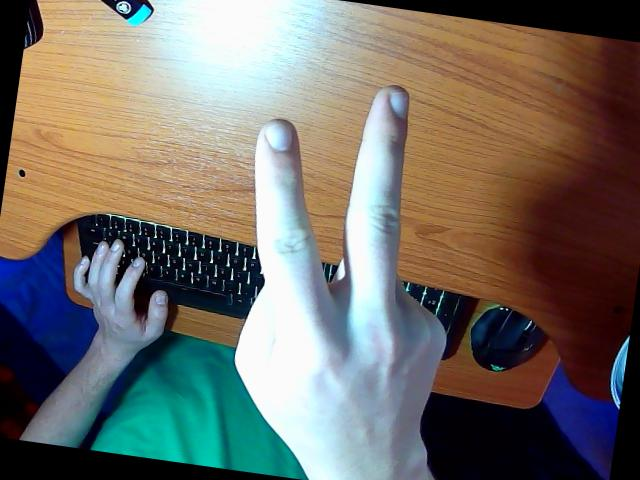scissors: (25, 87, 445, 480)
